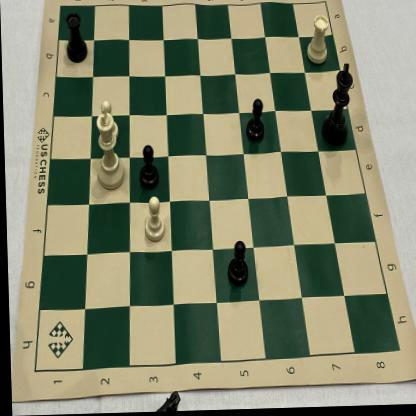black-king: (317, 62, 356, 153)
black-pawn: (222, 232, 250, 293), (242, 93, 268, 149), (136, 140, 162, 192)
black-rook: (58, 6, 91, 67)
white-king: (83, 103, 129, 195)
white-pawn: (136, 193, 166, 246), (92, 96, 120, 148)
white-rook: (302, 13, 334, 74)
